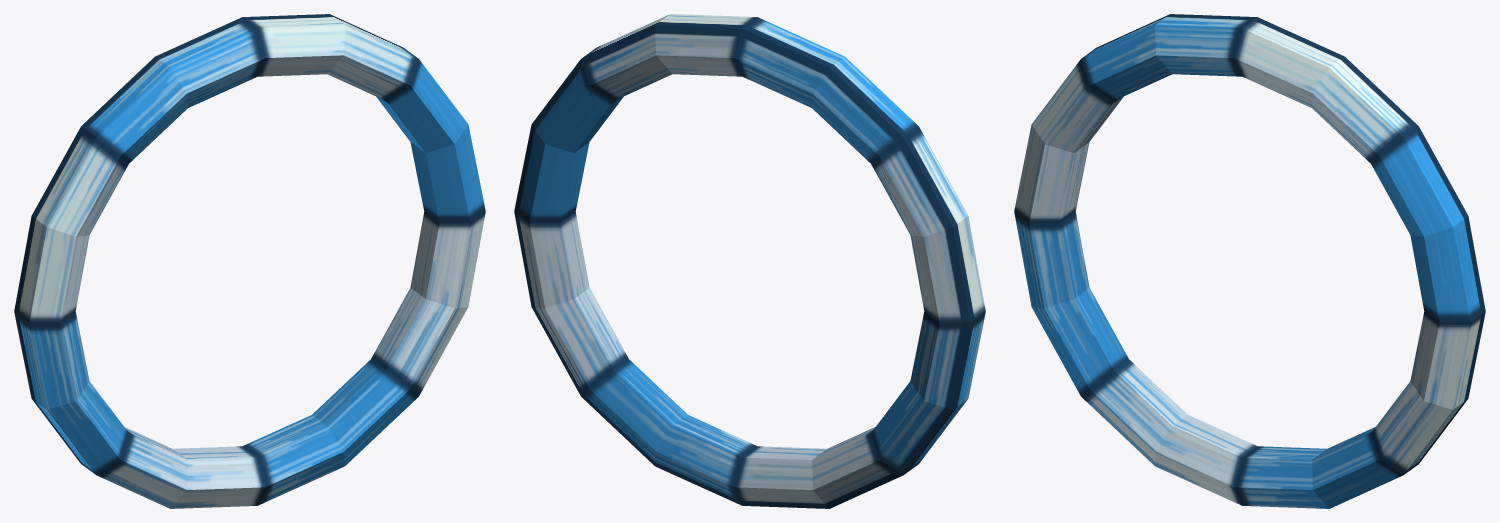
File: AroPlata.fbx
3 views of the same model, side by side, from view 1: azimuth 30°, elevation 25°; view 2: azimuth 150°, elevation 25°; view 3: azimuth 330°, elevation 25° (orthographic).
Visible parts, largest first — view 1: AroPlata; view 2: AroPlata; view 3: AroPlata.
Part boxes in pixels (x1=…): AroPlata: x1=14, y1=14, x2=485, y2=508; AroPlata: x1=514, y1=14, x2=985, y2=508; AroPlata: x1=1014, y1=14, x2=1485, y2=508.
Size of the model in its own units: 11.13 by 11.13 by 1.3.
